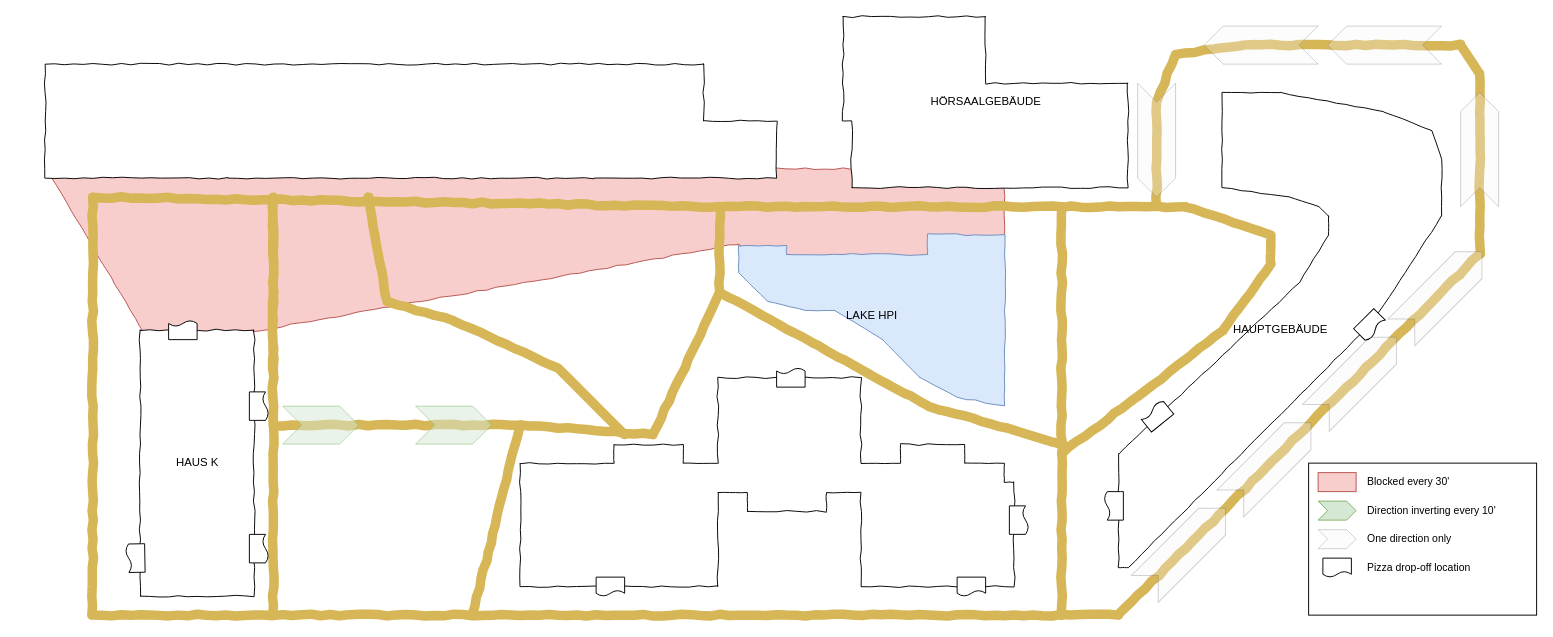
This 1553x637 diagram has some shape labels left out. Here are the shapes that lost their labels. From the top down, the box of each, then its label:
(44, 63, 777, 178): UNIBIBLIOTHEK
(519, 377, 1014, 587): HAUS ABC
